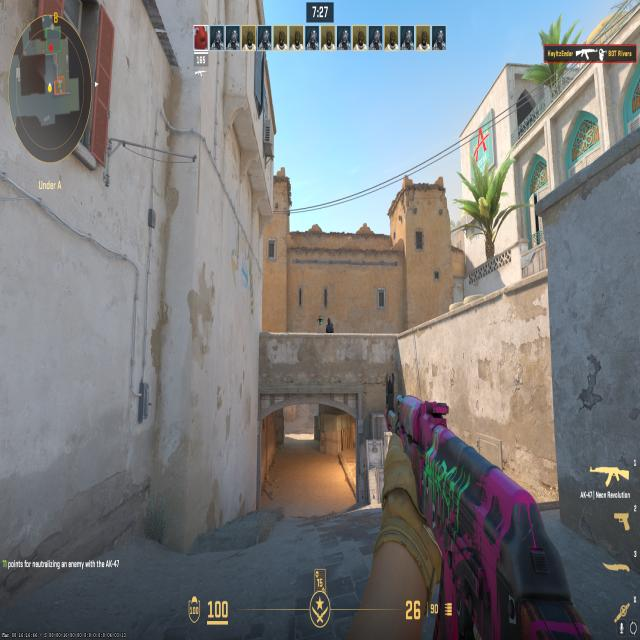ct: (326, 316, 334, 334)
